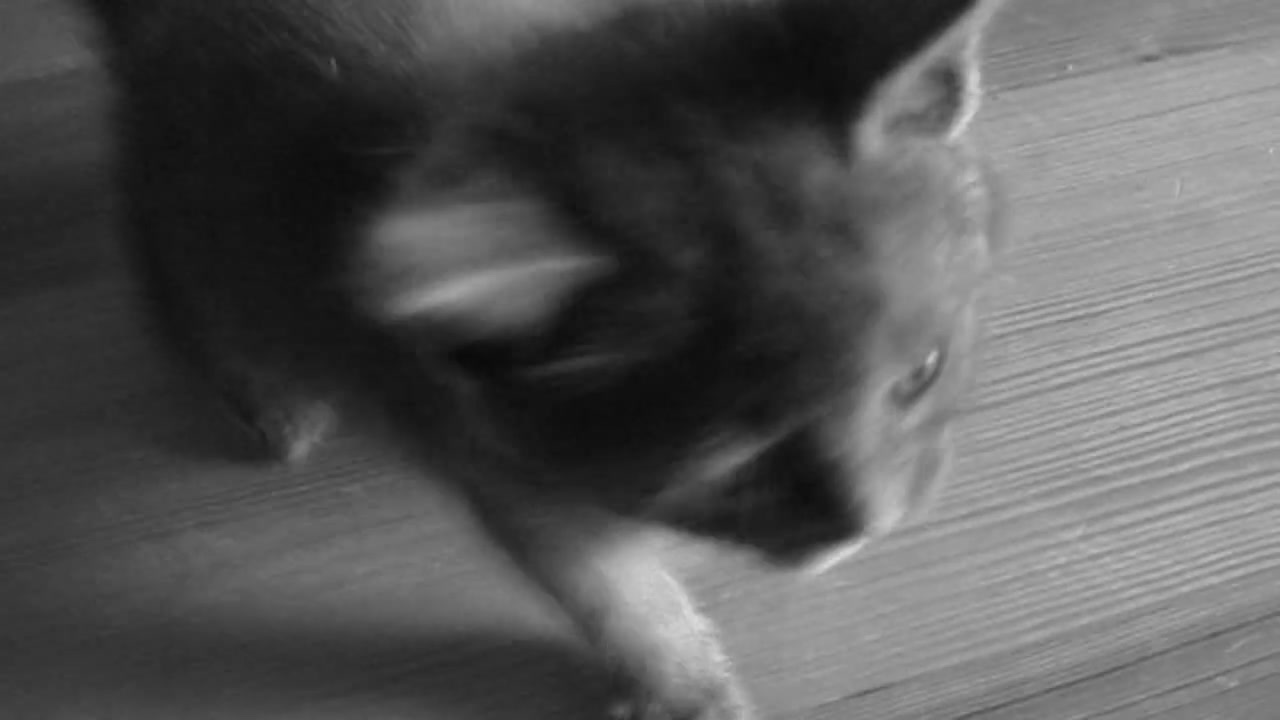cat: (61, 1, 1012, 720)
